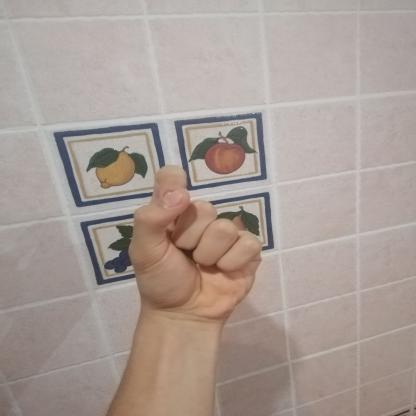FAA: (106, 152, 287, 331)
